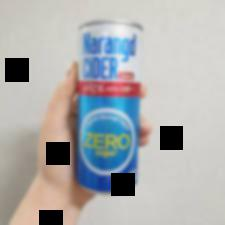narangdcider: (74, 19, 144, 194)
